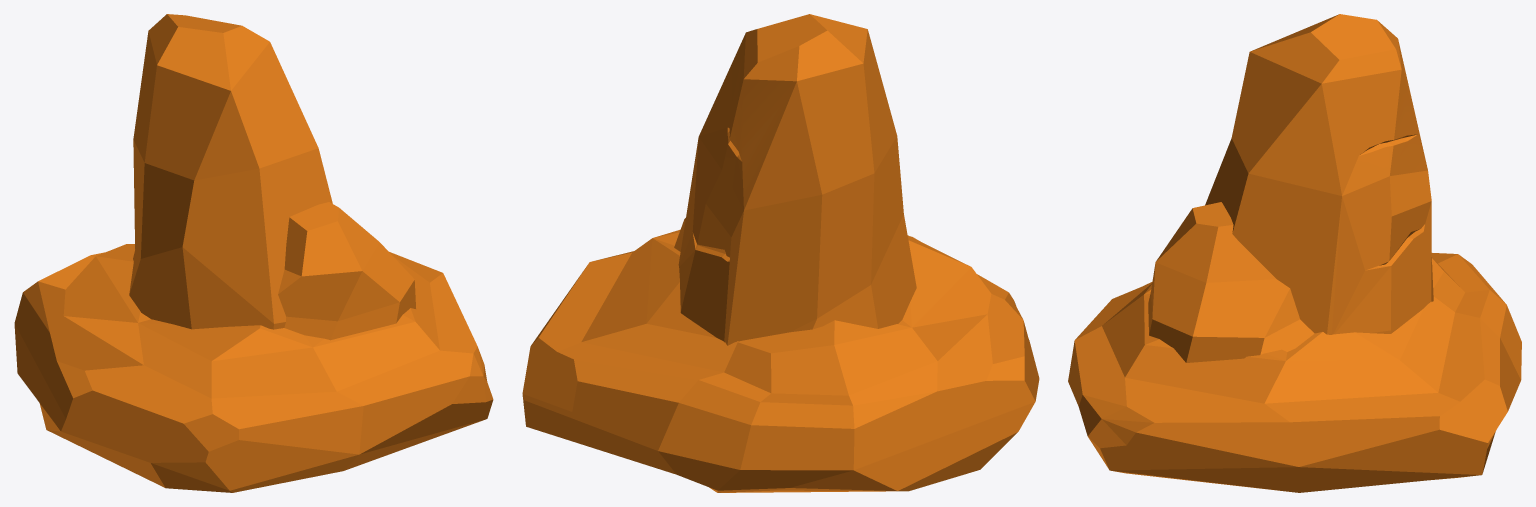
File: NIO_DesertRock3.fbx
The picture shows the model from 3 angles, left to right: view 1: azimuth 30°, elevation 25°; view 2: azimuth 150°, elevation 25°; view 3: azimuth 270°, elevation 25°; orthographic projection. The views are drawn at different scales.
Visible parts, largest first — view 1: Cube.003; view 2: Cube.003; view 3: Cube.003.
Boxes of the visible parts, <box> form: Cube.003: <box>14,14,493,492</box>; Cube.003: <box>522,14,1039,492</box>; Cube.003: <box>1068,14,1521,492</box>.
Size of the model in its own units: 286 by 257 by 275.
